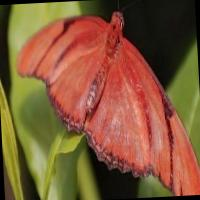butterfly: (18, 12, 200, 196)
